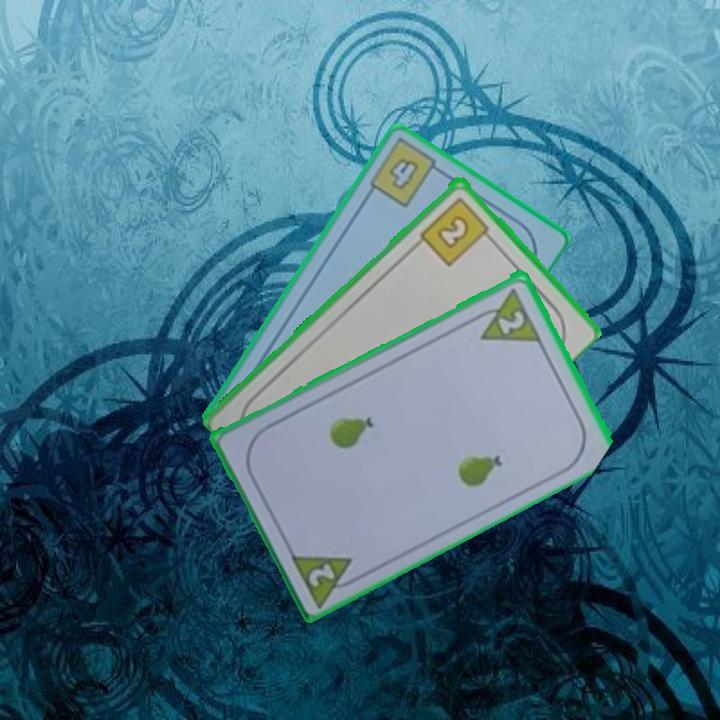2b: (416, 193, 496, 269)
2p: (287, 548, 366, 609), (468, 283, 544, 345)
4b: (365, 137, 447, 210)
